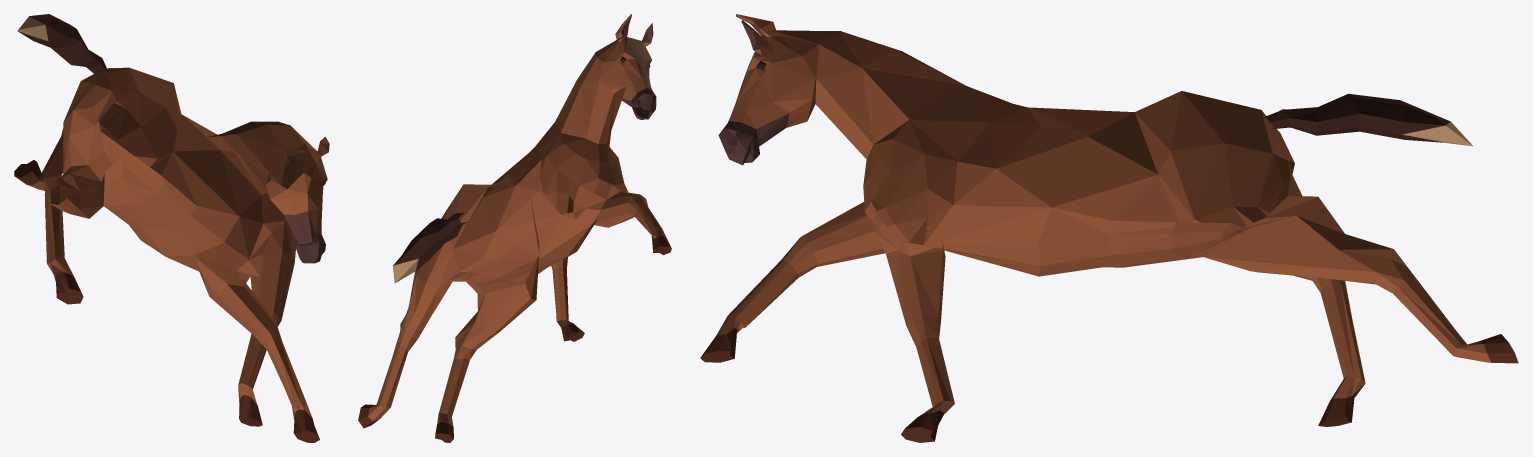
The model's file is Horse_brown_v3_mirrored.glb.
The picture shows the model from 3 angles, left to right: view 1: azimuth 30°, elevation 25°; view 2: azimuth 150°, elevation 25°; view 3: azimuth 270°, elevation 25°; orthographic projection. The views are drawn at different scales.
Size of the model in its own units: 61.1 by 182 by 322.
